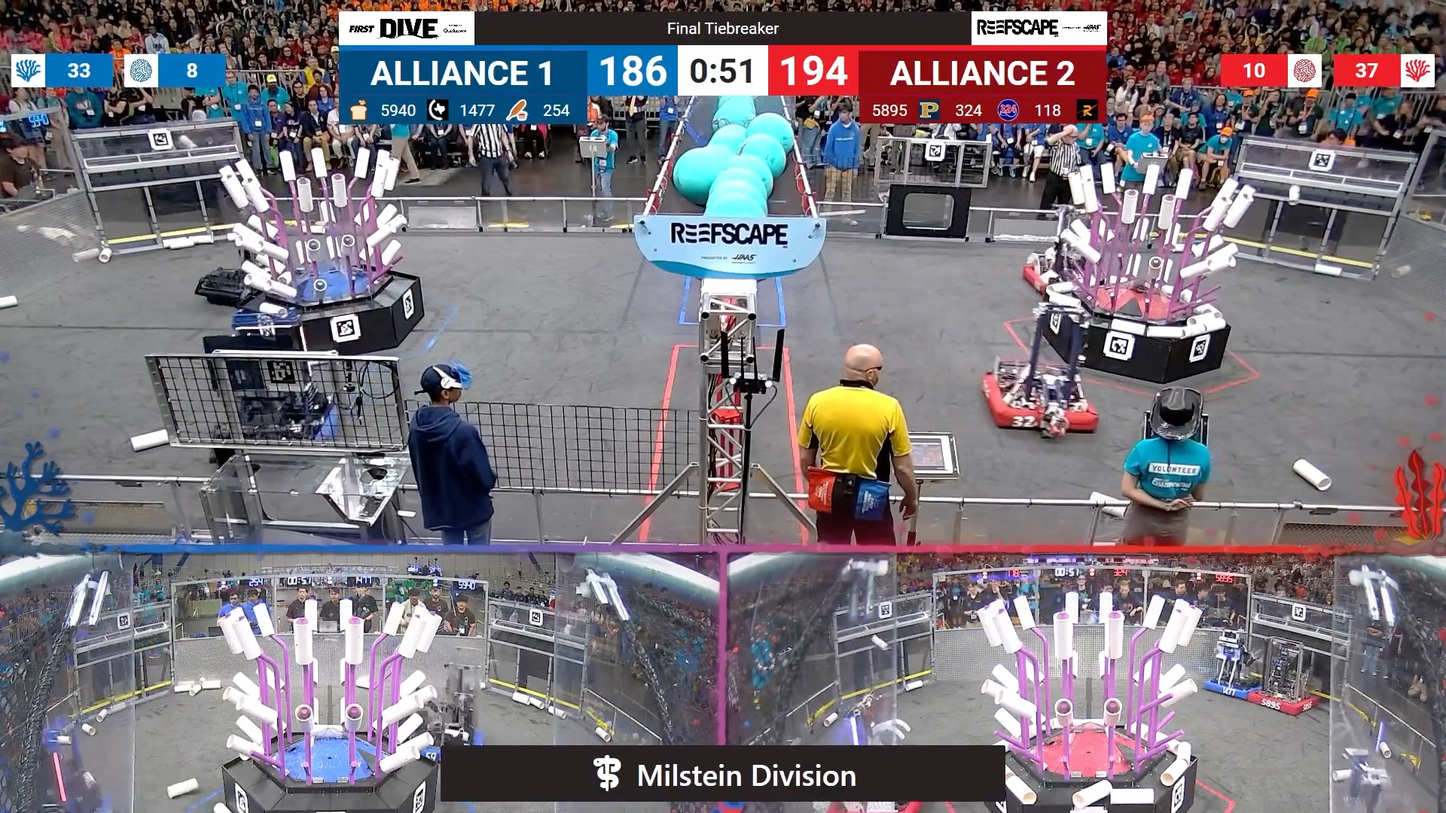bumpers: (980, 367, 1111, 441), (397, 721, 485, 767), (1242, 684, 1324, 719), (1018, 256, 1064, 301), (1196, 674, 1270, 700)
